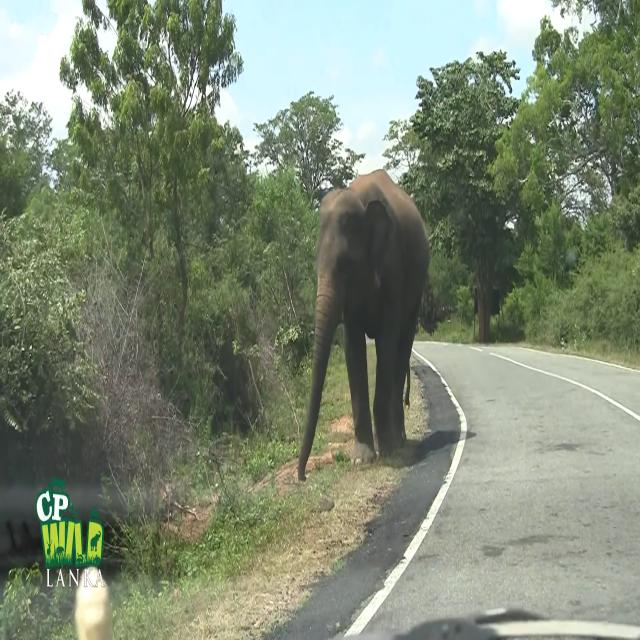Elephant: (297, 168, 431, 482)
